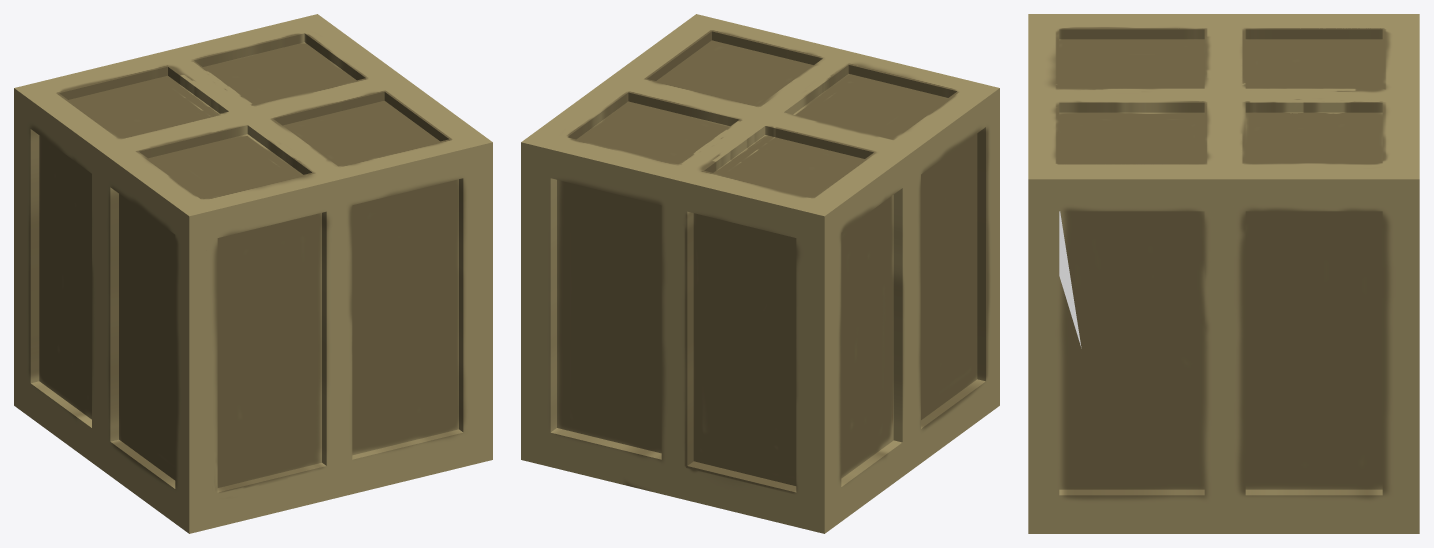
The model's file is cratepart.fbx.
The picture shows the model from 3 angles, left to right: view 1: azimuth 30°, elevation 25°; view 2: azimuth 150°, elevation 25°; view 3: azimuth 270°, elevation 25°; orthographic projection. The views are drawn at different scales.
Visible parts, largest first — view 1: Cube, Cube_cell.010, Cube_cell.016, Cube_cell.015, Cube_cell.009, Cube_cell.013, Cube_cell.017, Cube_cell.007_cell.002, Cube_cell.001, Cube_cell.003, Cube_cell.019, Cube_cell.007_cell.007 (+3 smaller); view 2: Cube, Cube_cell.001, Cube_cell.009, Cube_cell.013, Cube_cell.017, Cube_cell.019, Cube_cell.007_cell.002, Cube_cell.007_cell, Cube_cell.015, Cube_cell.002_cell.007; view 3: Cube, Cube_cell.003, Cube_cell, Cube_cell.017, Cube_cell.009, Cube_cell.013, Cube_cell.010, Cube_cell.001, Cube_cell.019, Cube_cell.007_cell.007.
Part boxes in pixels (x1,y1,x2,y2): Cube: [14, 33, 492, 533]; Cube_cell.010: [265, 141, 492, 368]; Cube_cell.016: [270, 345, 470, 514]; Cube_cell.015: [109, 350, 291, 533]; Cube_cell.009: [214, 77, 486, 148]; Cube_cell.013: [14, 38, 231, 288]; Cube_cell.017: [219, 14, 372, 96]; Cube_cell.007_cell.002: [156, 288, 273, 369]; Cube_cell.001: [30, 97, 241, 354]; Cube_cell.003: [436, 317, 492, 464]; Cube_cell.019: [14, 286, 87, 416]; Cube_cell.007_cell.007: [168, 200, 254, 293]; Cube: [521, 14, 999, 533]; Cube_cell.001: [766, 114, 948, 393]; Cube_cell.009: [625, 18, 806, 143]; Cube_cell.013: [620, 135, 841, 405]; Cube_cell.017: [521, 101, 709, 320]; Cube_cell.019: [550, 324, 885, 525]; Cube_cell.007_cell.002: [949, 183, 997, 275]; Cube_cell.007_cell: [953, 118, 977, 212]; Cube_cell.015: [880, 252, 977, 449]; Cube_cell.002_cell.007: [929, 128, 950, 184]; Cube: [1028, 14, 1419, 533]; Cube_cell.003: [1028, 349, 1370, 533]; Cube_cell: [1047, 167, 1320, 364]; Cube_cell.017: [1287, 113, 1419, 392]; Cube_cell.009: [1041, 85, 1291, 196]; Cube_cell.013: [1276, 14, 1419, 130]; Cube_cell.010: [1028, 102, 1141, 374]; Cube_cell.001: [1185, 14, 1408, 88]; Cube_cell.019: [1362, 383, 1419, 533]; Cube_cell.007_cell.007: [1059, 29, 1104, 39].
Size of what is drawn, in the model's own units: 372 by 372 by 372.
1 material, 1 textured.
